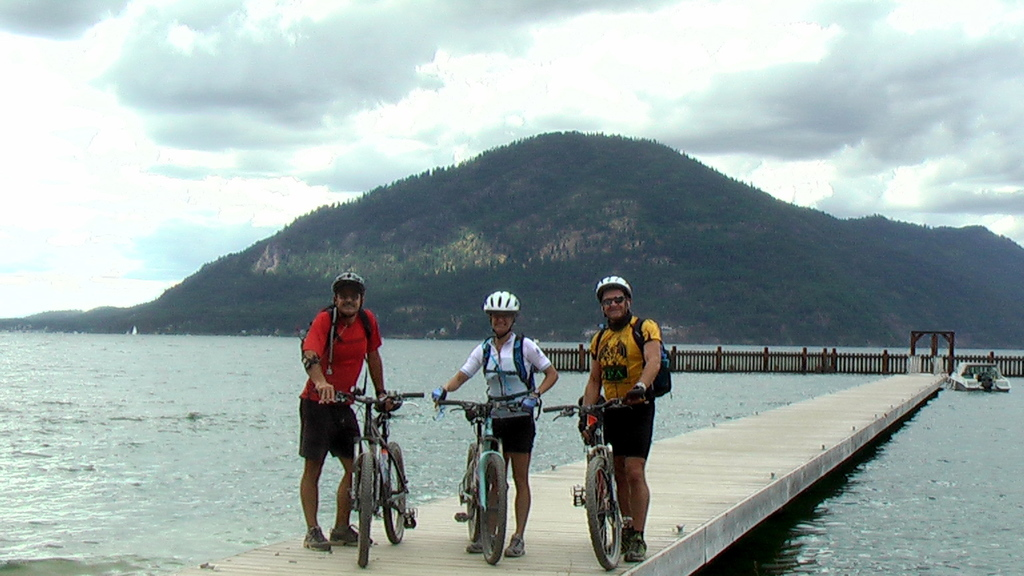Bike: (316, 384, 425, 575), (541, 391, 650, 564), (434, 389, 541, 557)
